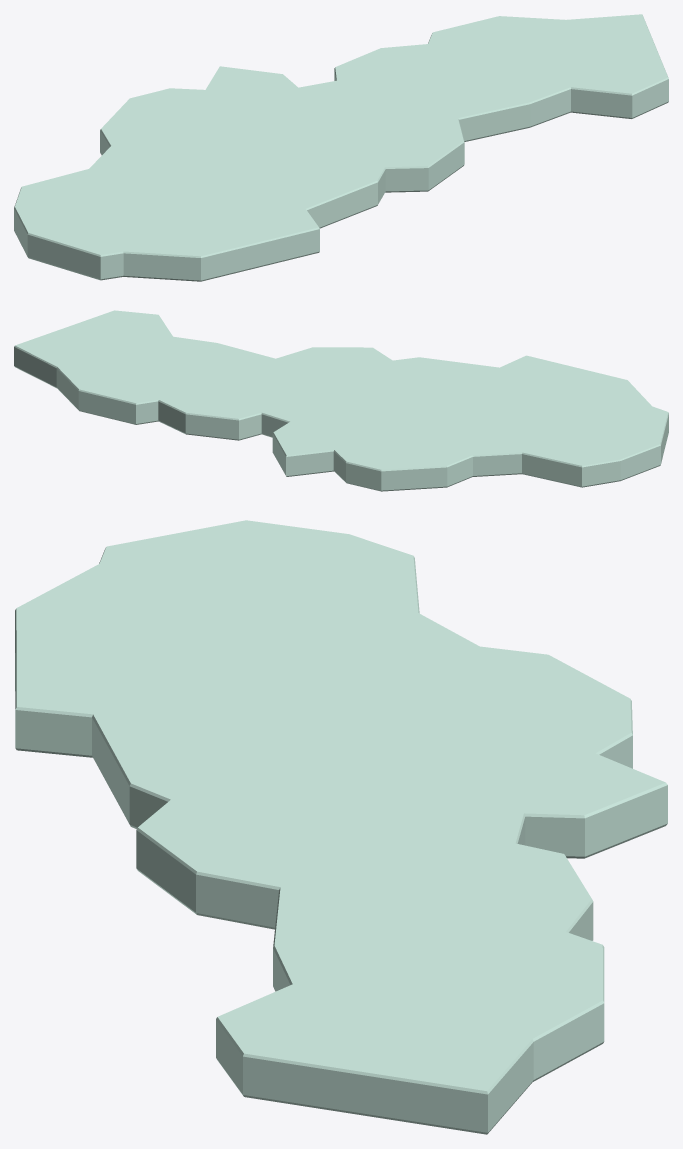
Rendered from SVK.glb.
3 renders of one model, top to bottom at view 1: azimuth 30°, elevation 25°; view 2: azimuth 150°, elevation 25°; view 3: azimuth 270°, elevation 25°, orthographic. The views are drawn at different scales.
Bounding box in the file's own units: 1.92 × 0.068 × 0.9259.
